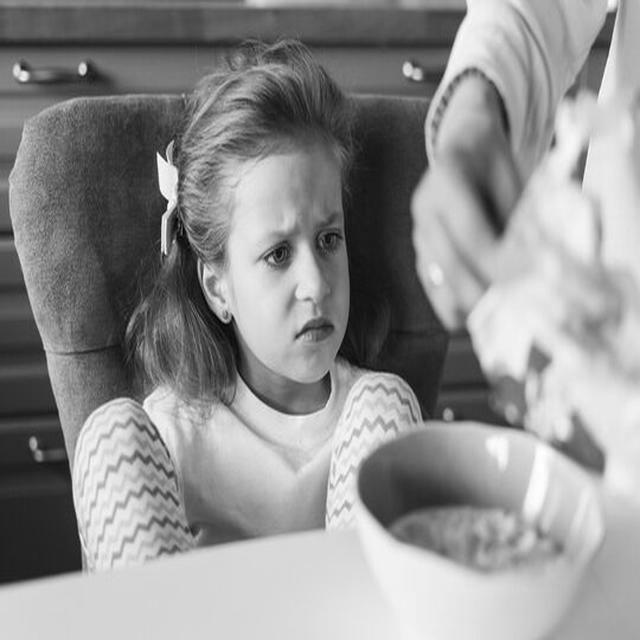Disgust: (226, 131, 352, 385)
